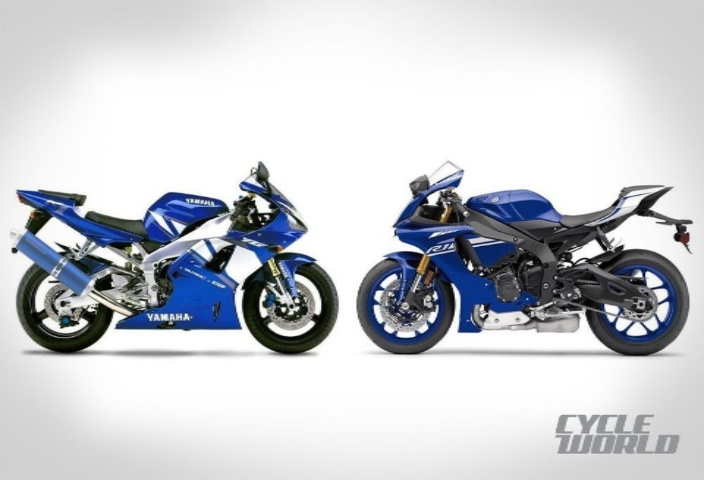motorcycle: (378, 155, 693, 384), (3, 161, 335, 365)
